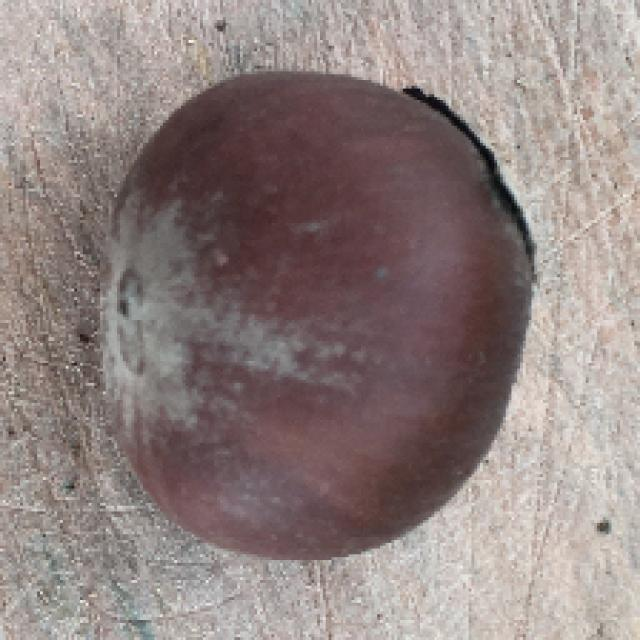damagedHazelnut: (96, 50, 548, 574)
